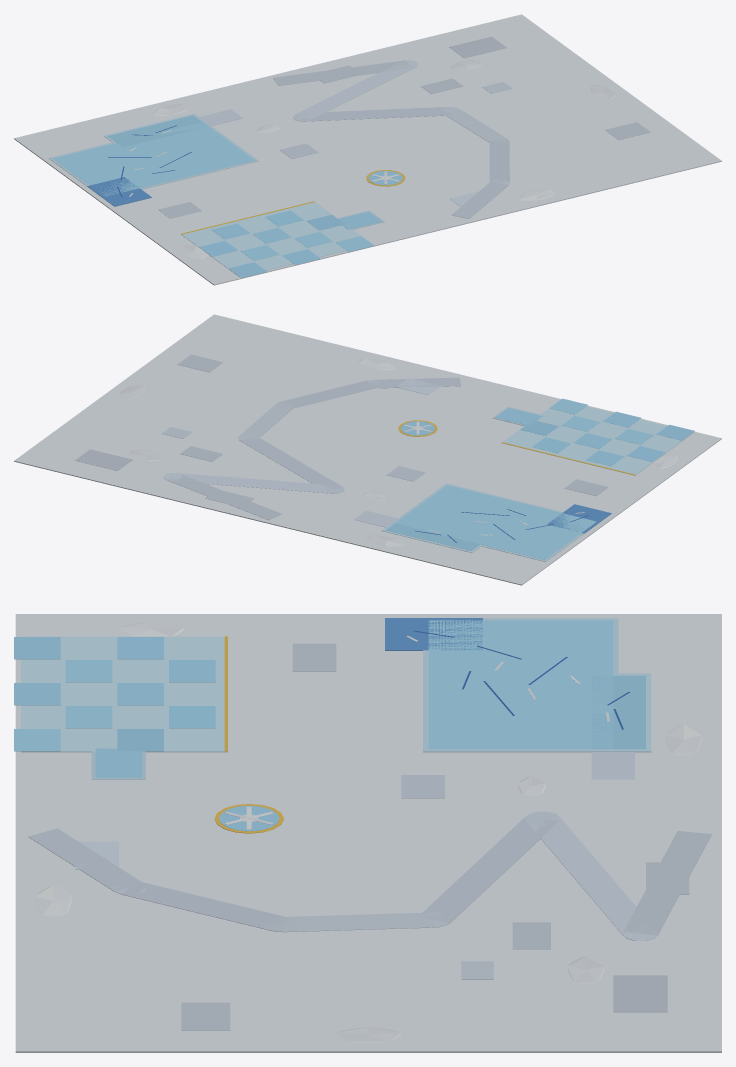
File: Decor_IcePalace_Ground.fbx
The picture shows the model from 3 angles, top to bottom: view 1: azimuth 30°, elevation 25°; view 2: azimuth 150°, elevation 25°; view 3: azimuth 270°, elevation 25°; orthographic projection. The views are drawn at different scales.
Visible parts, largest first — view 1: Ground_Body; view 2: Ground_Body; view 3: Ground_Body.
Part boxes in pixels (<box>): Ground_Body: <box>14,14,721,285</box>; Ground_Body: <box>14,314,721,585</box>; Ground_Body: <box>14,614,721,1052</box>.
Bounding box in the file's own units: 190 × 0.45 × 130.
